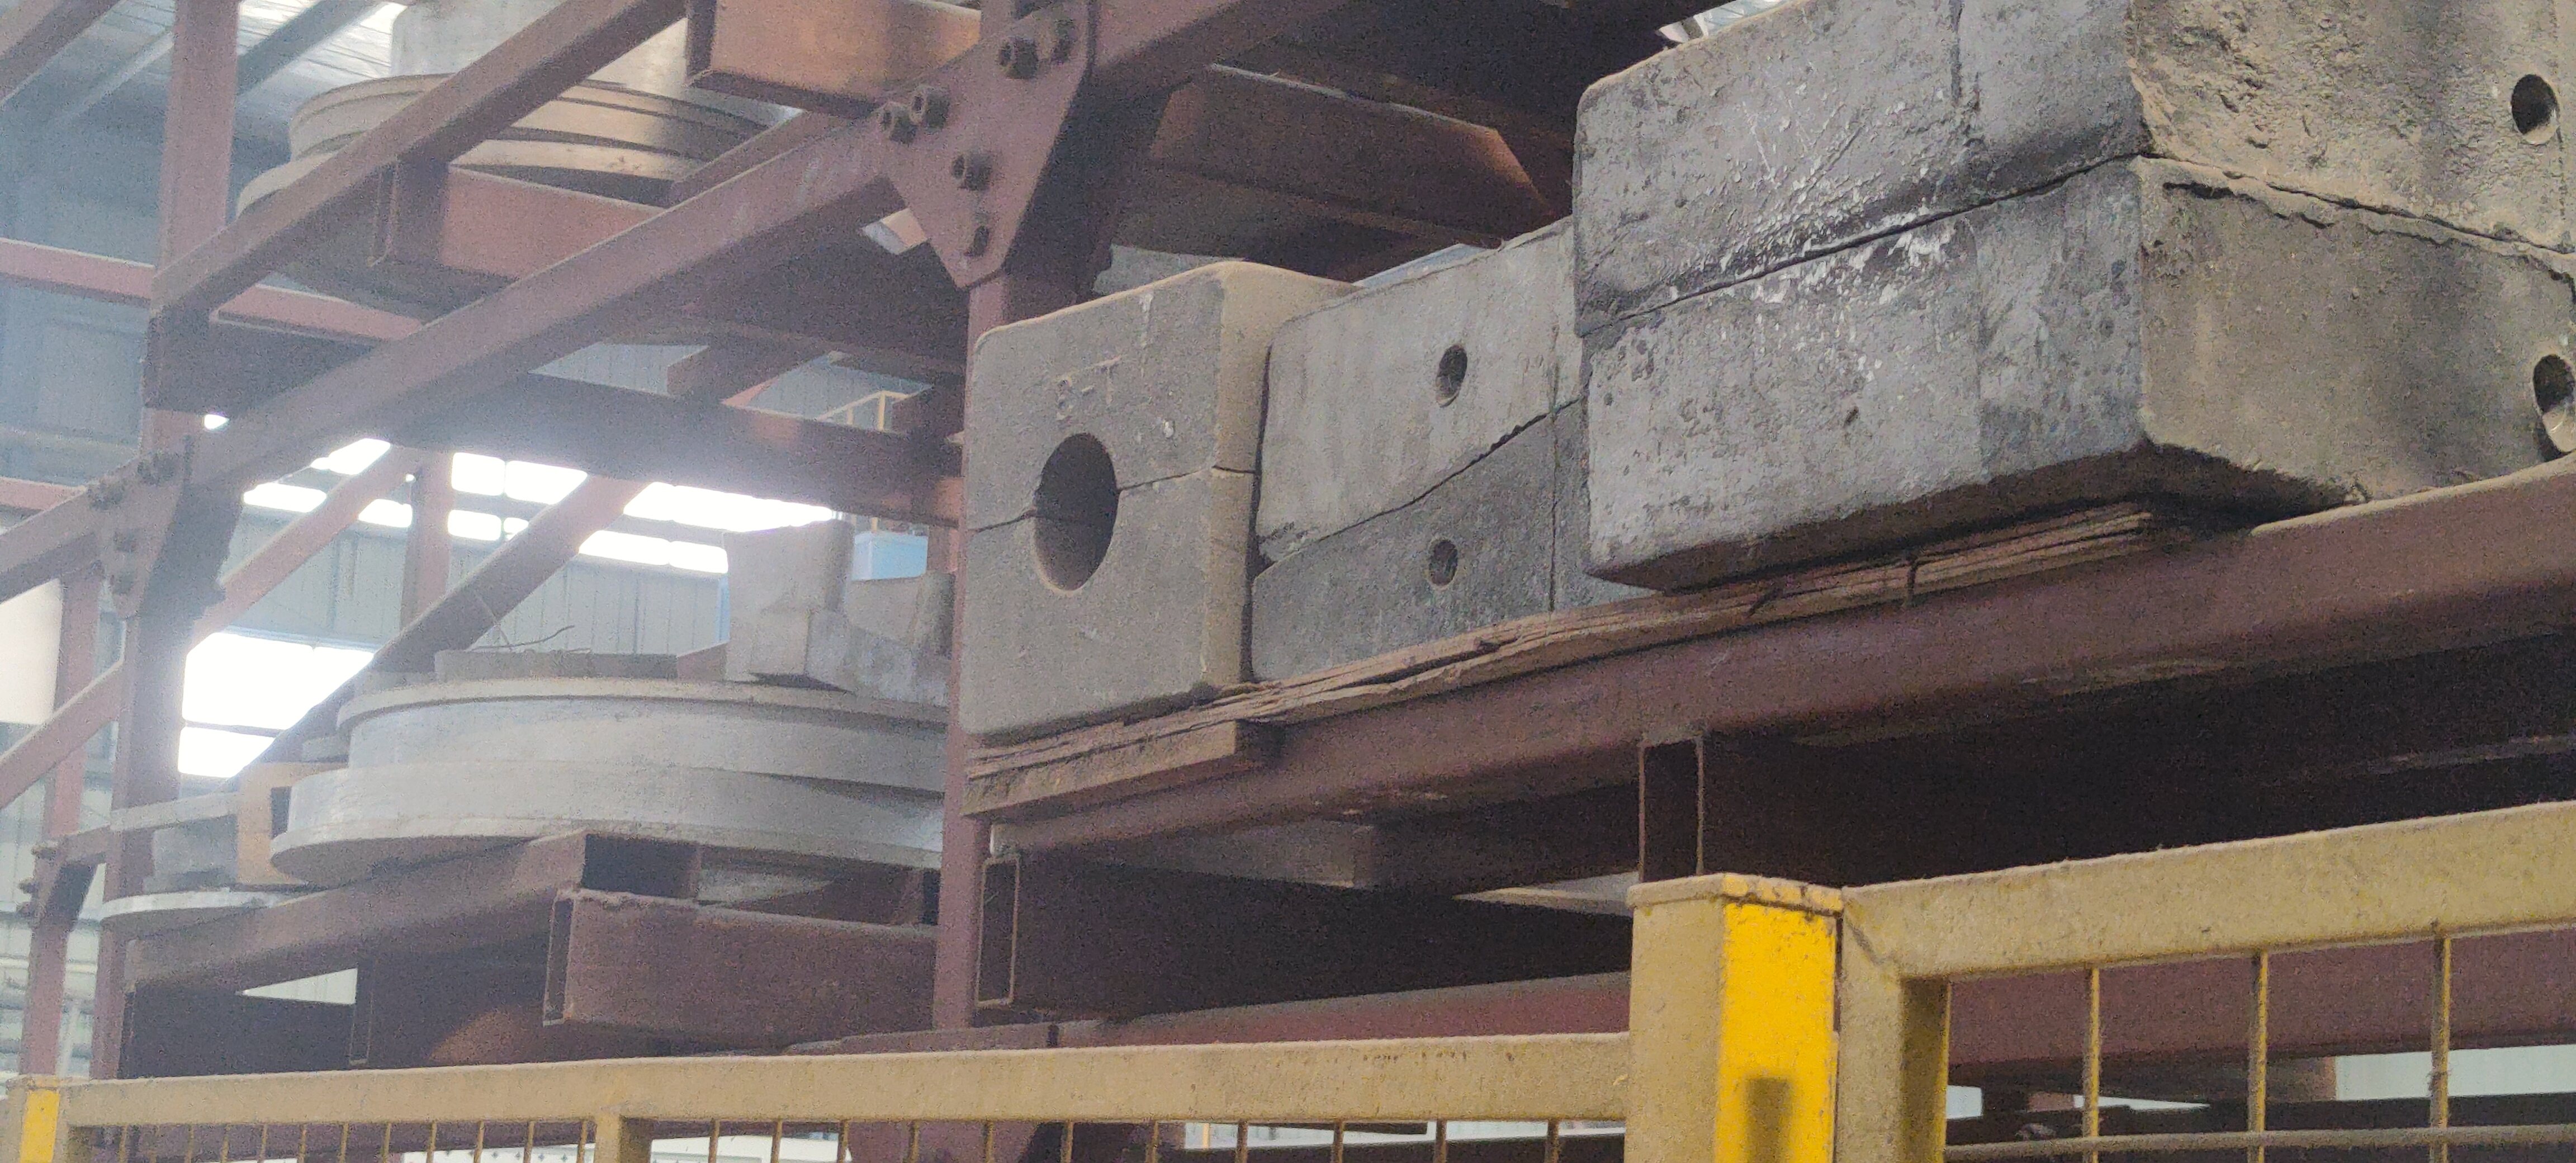pouring hole: (1030, 434, 1119, 598)
